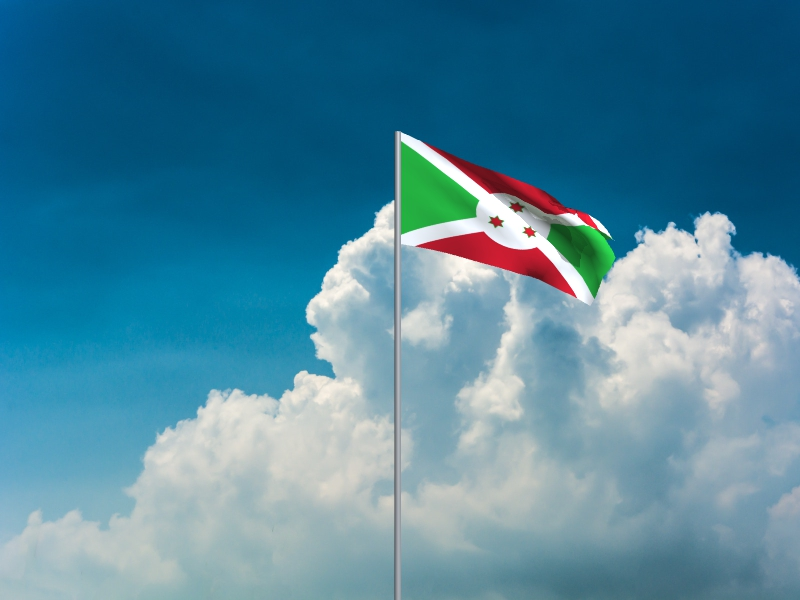bi: (402, 133, 618, 308)
